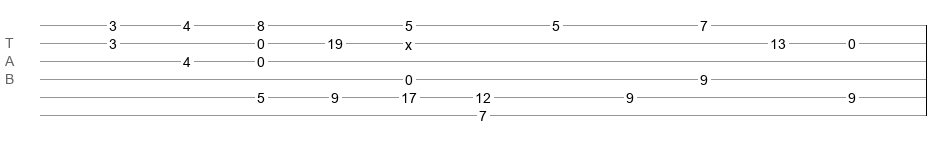0: (257, 54, 265, 64), (257, 36, 265, 46), (405, 72, 413, 82), (848, 36, 856, 46)
12: (475, 90, 491, 100)
13: (770, 36, 786, 46)
17: (401, 90, 417, 100)
19: (327, 36, 343, 46)
3: (109, 36, 117, 46), (109, 18, 117, 28)
4: (183, 18, 191, 28), (183, 54, 191, 64)
5: (257, 90, 265, 100), (405, 18, 413, 28), (552, 18, 560, 28)
7: (479, 108, 487, 118), (700, 18, 708, 28)
8: (257, 18, 265, 28)
9: (331, 90, 339, 100), (626, 90, 634, 100), (700, 72, 708, 82), (848, 90, 856, 100)
x: (405, 37, 412, 45)
